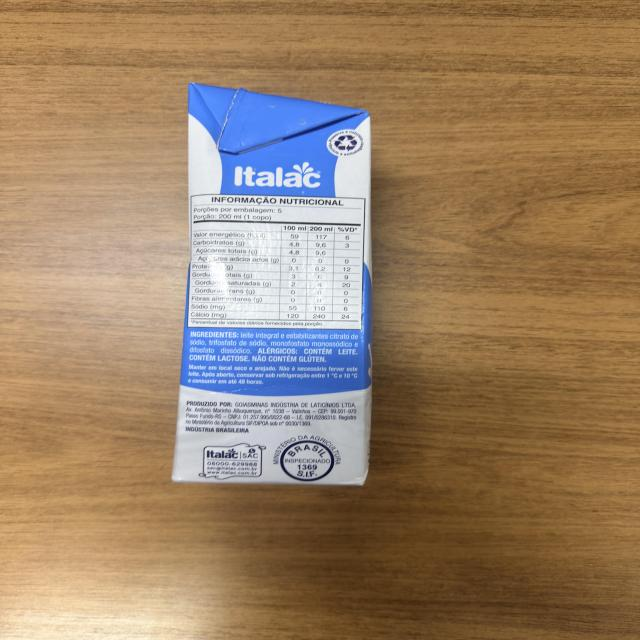Caixa de Leite: (167, 82, 378, 485)
